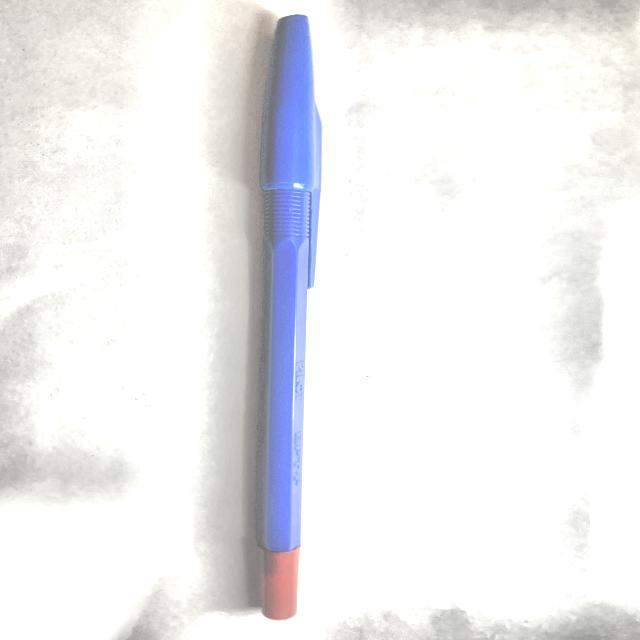Pulpen: (237, 4, 340, 630)
